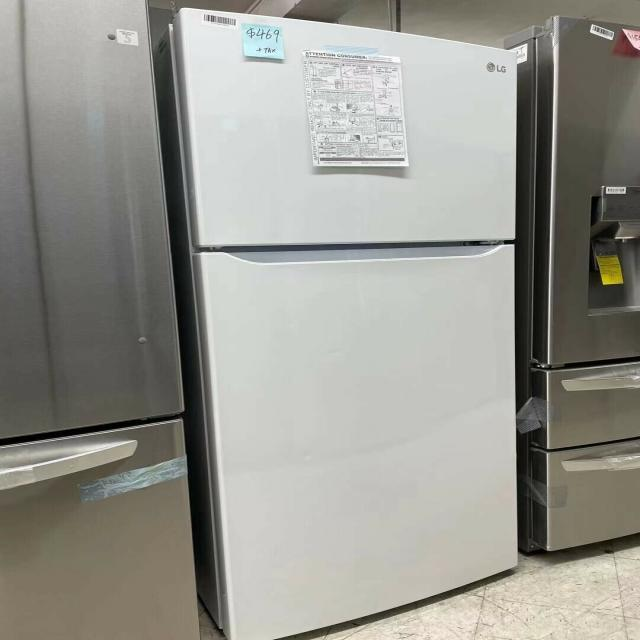refrigerator: (170, 5, 519, 630), (537, 16, 640, 553)
